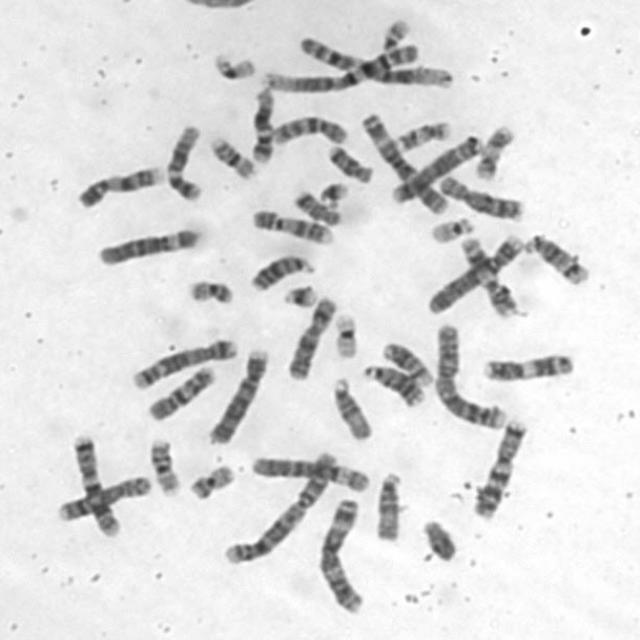A1: (287, 33, 456, 90), (258, 41, 422, 93)
A2: (218, 446, 340, 567), (431, 321, 509, 431)
A3: (358, 110, 450, 216), (313, 494, 368, 614)
B4: (422, 230, 526, 316), (204, 345, 271, 446)
B5: (387, 131, 483, 205), (129, 334, 241, 392)
C10: (143, 362, 217, 423), (268, 112, 348, 147)
C11: (455, 234, 519, 318), (479, 350, 574, 383)
C12: (162, 121, 205, 203), (247, 84, 277, 166)
C6: (246, 452, 371, 494), (94, 223, 202, 268)
C7: (468, 416, 530, 519), (69, 431, 122, 538)
C8: (56, 473, 153, 524), (435, 172, 526, 222)
C9: (74, 161, 164, 210), (247, 205, 335, 246)
D13: (359, 361, 427, 407), (247, 251, 316, 293)
D14: (520, 230, 591, 287), (378, 337, 435, 387)
D15: (329, 374, 374, 441), (371, 468, 405, 544)
E16: (146, 434, 184, 497), (208, 134, 258, 180)
E17: (472, 122, 516, 182), (392, 117, 453, 152)
E18: (325, 141, 374, 186), (289, 186, 343, 226)
F19: (329, 309, 361, 361), (210, 50, 258, 82)
F20: (186, 461, 236, 501), (184, 276, 236, 306)
G21: (316, 178, 351, 209), (280, 281, 318, 309)
G22: (427, 213, 476, 244), (379, 16, 411, 53)
X: (284, 293, 338, 382)
Y: (418, 514, 458, 563)
